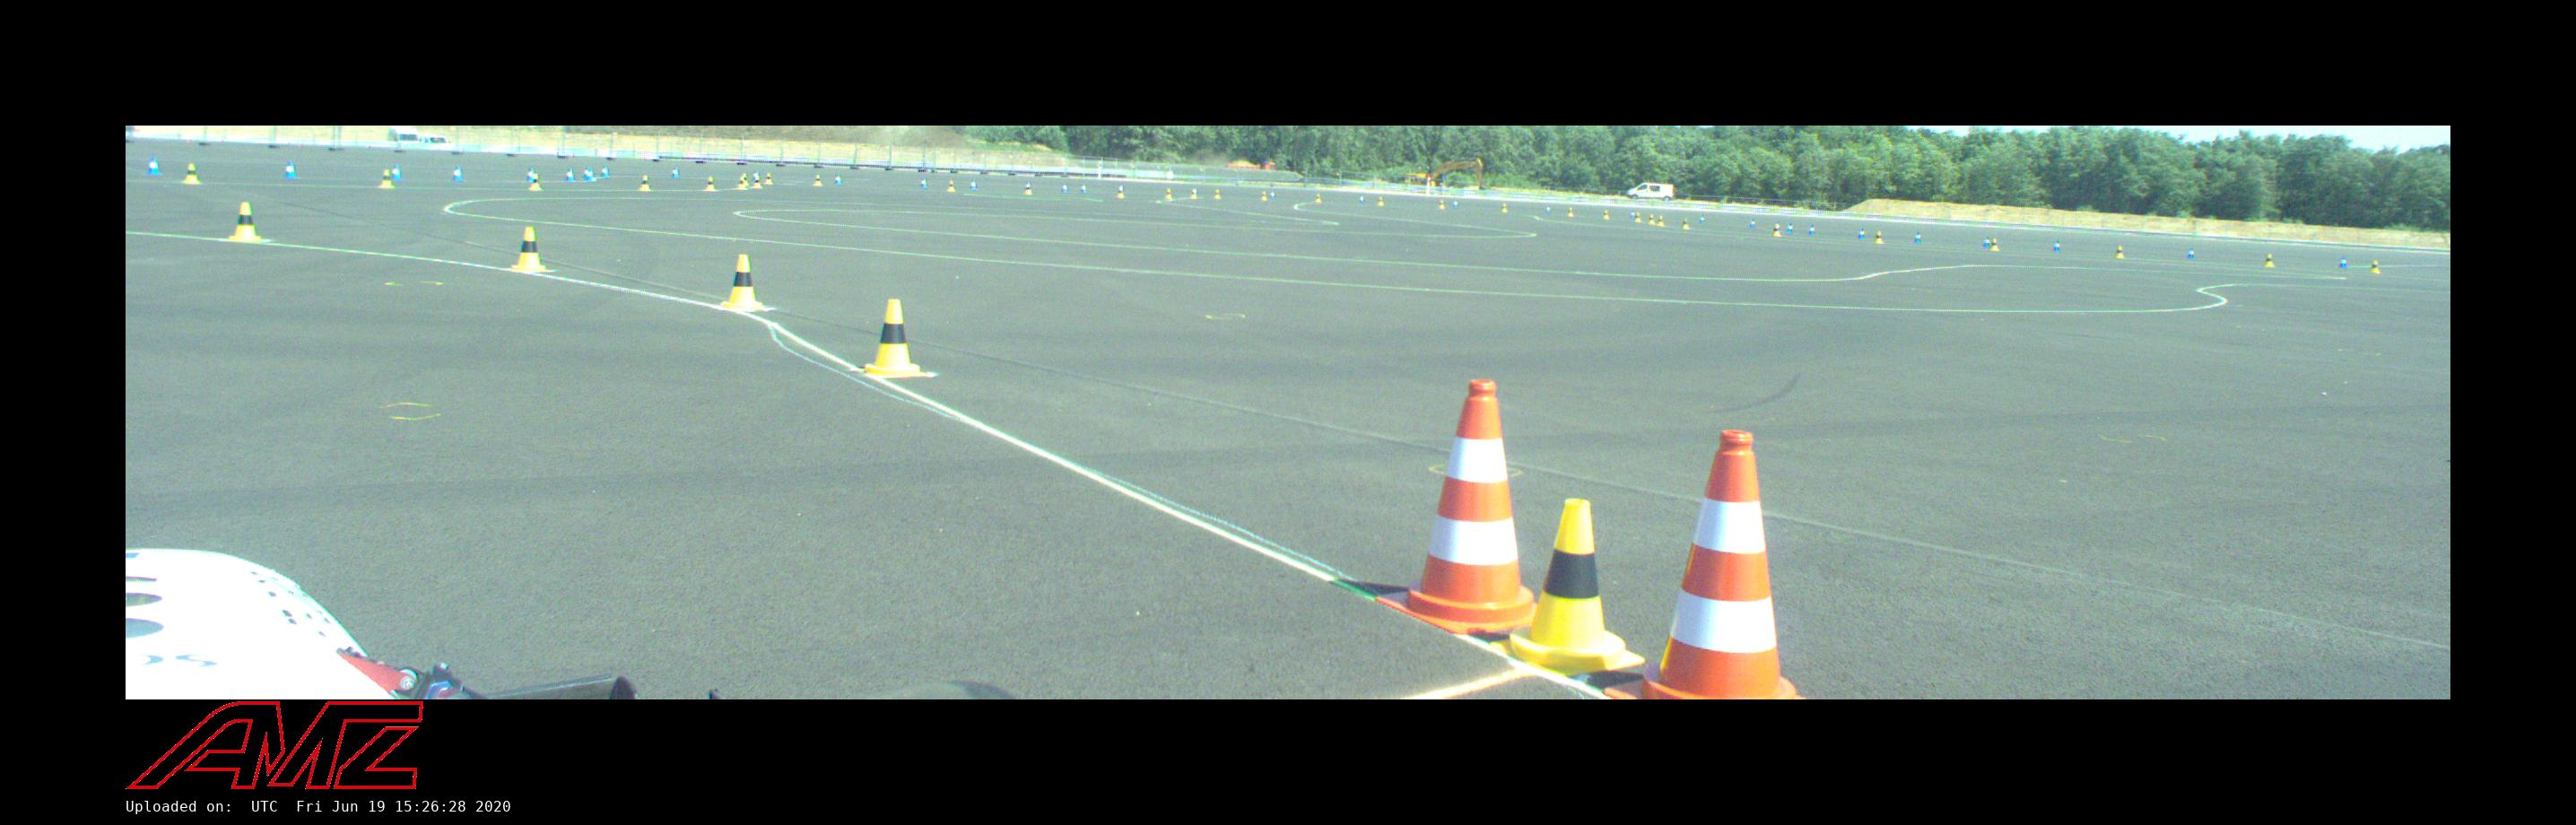blue_cone: (146, 158, 161, 174), (284, 161, 297, 179), (452, 166, 463, 181), (563, 169, 575, 182), (389, 164, 399, 179), (669, 166, 680, 177), (587, 169, 596, 182), (526, 169, 534, 184), (2052, 240, 2062, 251), (600, 166, 609, 177), (2339, 256, 2348, 270), (582, 166, 590, 179), (1858, 228, 1866, 240), (2187, 248, 2195, 258), (920, 179, 928, 189), (749, 173, 759, 181), (1914, 232, 1921, 243), (1983, 237, 1990, 248), (969, 181, 976, 191), (1809, 224, 1815, 233), (1061, 182, 1068, 192), (1774, 222, 1781, 232), (835, 174, 841, 182), (1022, 181, 1028, 189), (1546, 205, 1553, 214), (1699, 215, 1705, 224), (1630, 210, 1636, 219), (1787, 224, 1792, 233), (1081, 182, 1086, 192), (1751, 219, 1756, 228), (1454, 200, 1459, 209), (1272, 191, 1275, 199), (1359, 196, 1362, 202)
large_orange_cone: (1615, 429, 1812, 698), (1387, 381, 1566, 633)
yellow_cone: (1497, 498, 1644, 672), (861, 301, 927, 378), (721, 253, 766, 309), (511, 227, 549, 271), (228, 202, 261, 242), (184, 163, 199, 184), (380, 169, 393, 189), (529, 173, 542, 191), (639, 174, 652, 191), (705, 176, 716, 191), (2369, 260, 2380, 274), (2264, 253, 2275, 266), (2114, 245, 2126, 258), (1875, 230, 1883, 243), (1990, 238, 1998, 251), (738, 176, 746, 189), (741, 173, 749, 186), (1681, 219, 1690, 228), (752, 176, 761, 187), (764, 173, 772, 182), (1656, 215, 1664, 225), (1773, 225, 1781, 235), (1117, 186, 1124, 197), (1635, 210, 1641, 222), (1314, 194, 1322, 202), (815, 174, 821, 184), (948, 181, 955, 191), (1502, 202, 1508, 212), (1260, 191, 1267, 200), (1439, 199, 1446, 209), (1567, 207, 1574, 217), (1165, 187, 1171, 197), (1648, 214, 1654, 224), (1189, 189, 1196, 199), (1214, 189, 1221, 197), (1603, 209, 1608, 219), (1378, 196, 1383, 205), (1025, 184, 1030, 194)
